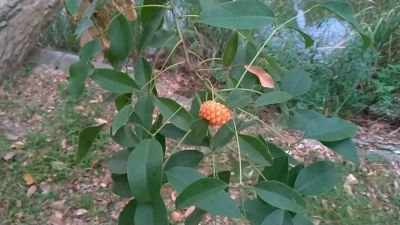eggs: (198, 94, 234, 130)
